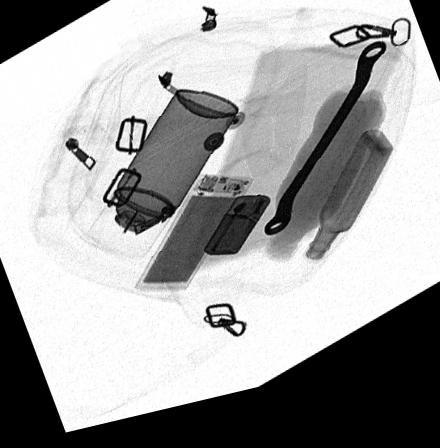Lighter: (201, 207, 270, 266)
Powerbank: (133, 183, 252, 299)
Sprayer: (86, 97, 237, 268)
